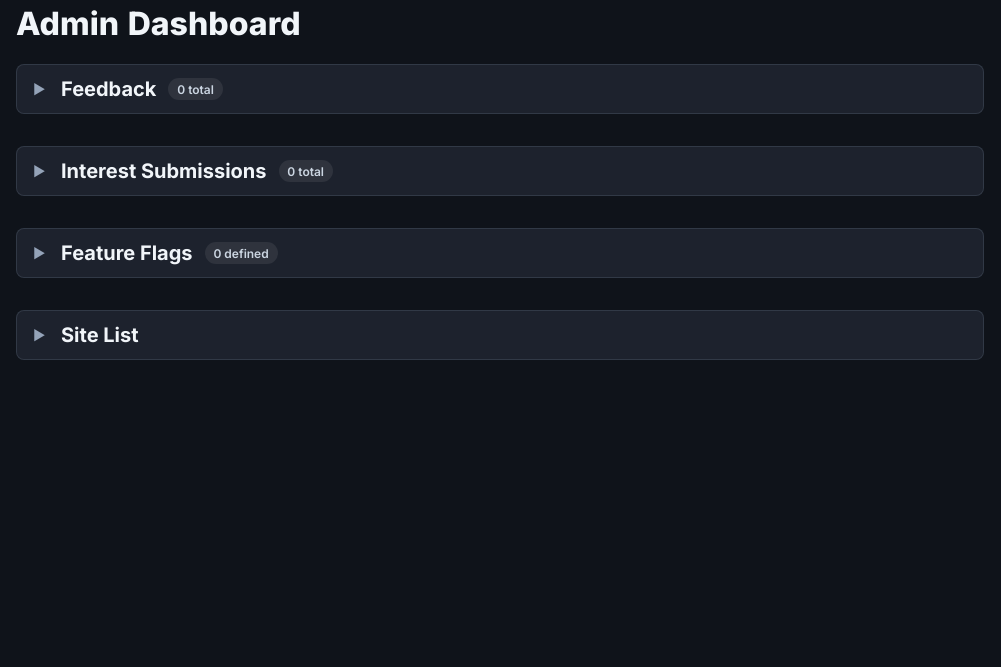
AdminPage › renders site aliases and handles editing
This screenshot has width=1001, height=667.
Click the heading "Site List" at (100, 335), box x1=61 y1=323 x2=139 y2=347
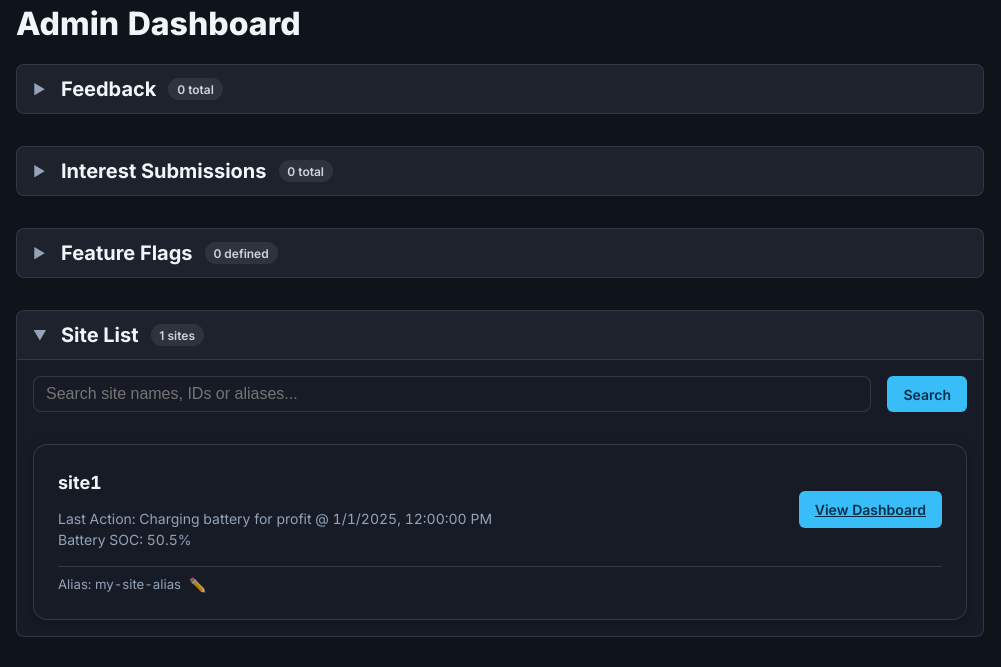
Expected: the text "Alias: my-site-alias" is shown, x1=58 y1=575 x2=181 y2=595
Click the button titled "Edit Alias" at (198, 585), box x1=189 y1=576 x2=206 y2=593
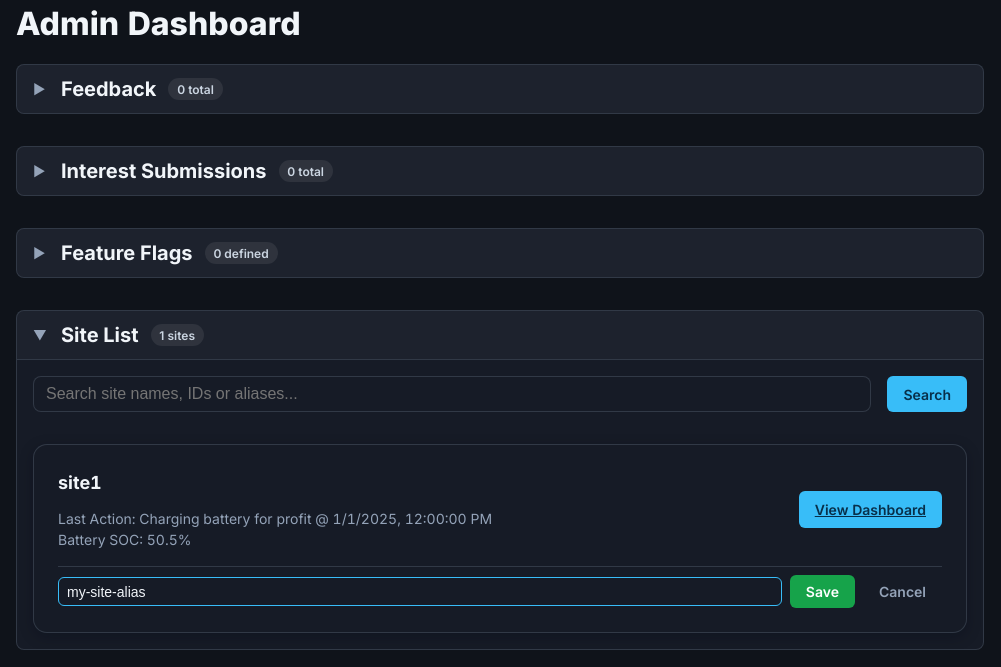
Expected: the field with placeholder "Add site alias..." is shown
Expected: the field with placeholder "Add site alias..." holds "my-site-alias"
Replace the text in the field with placeholder "Add site alias..." with "new-alias-value" at (420, 592), box x1=58 y1=577 x2=782 y2=606
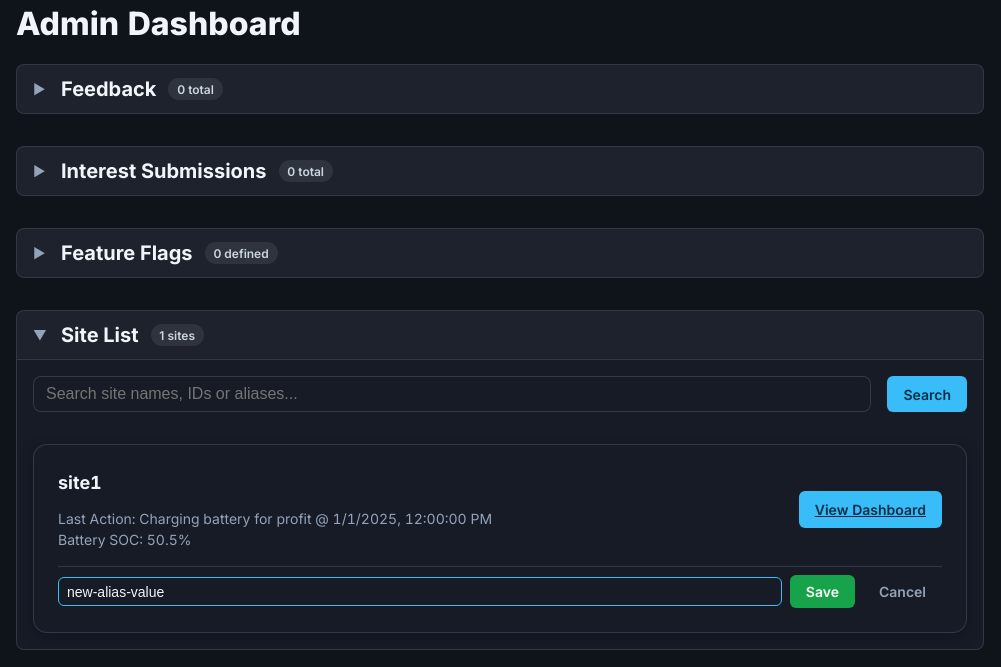
Click the button "Save" at (822, 592), box x1=790 y1=575 x2=855 y2=608
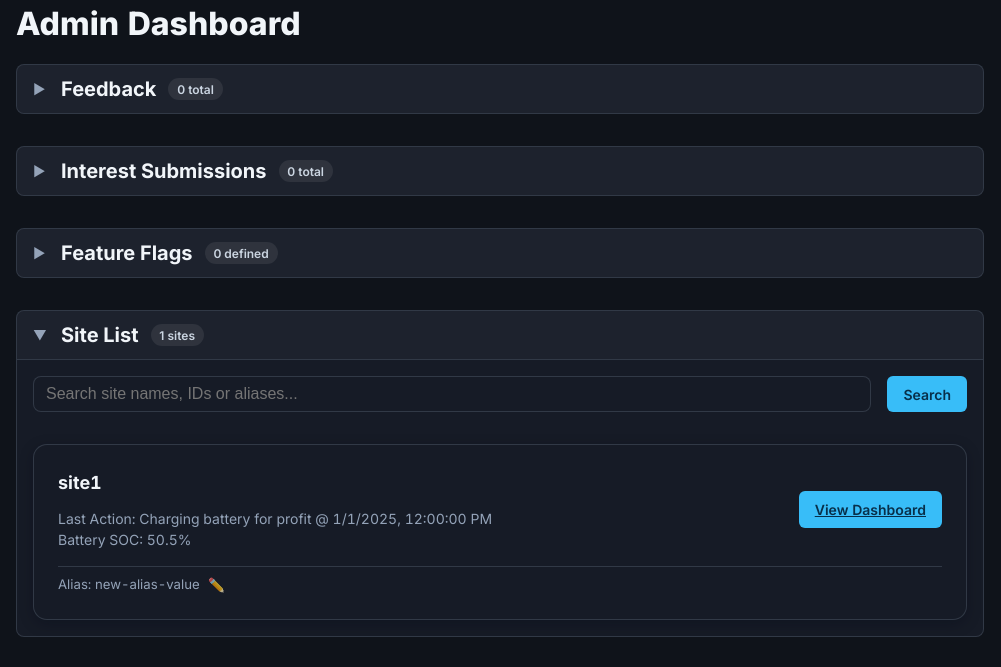
Expected: the text "Alias: new-alias-value" is shown, x1=58 y1=575 x2=200 y2=595
